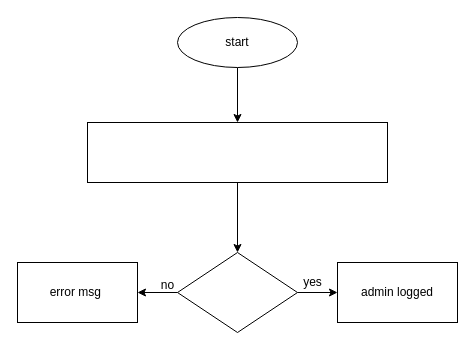
This 475x350 diagram has some shape labels left out. Each missing label, with the centre of its shape:
"is in database" belongs at point (237, 292).
"login(admin_username,admin_password)" belongs at point (237, 152).
